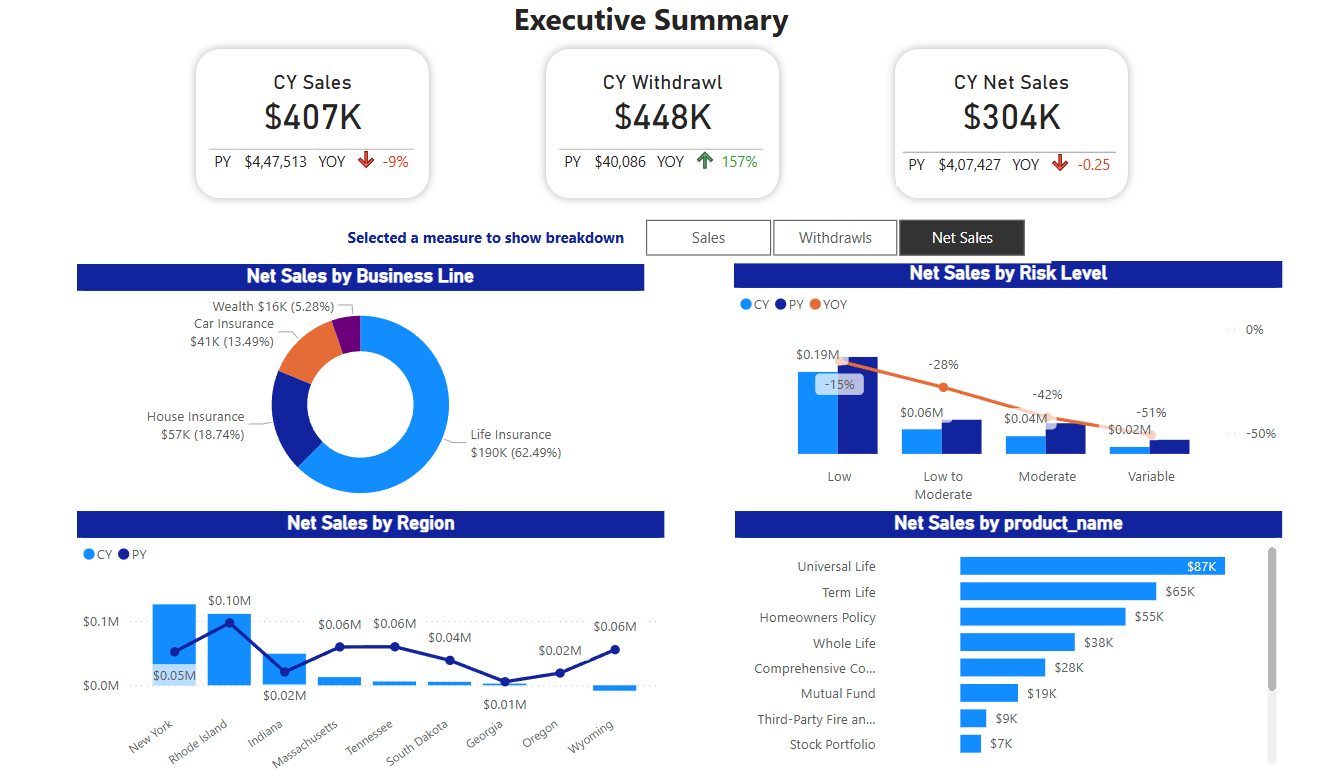

The dashboard page shown, as its layout file describes it:
{"tool":"powerbi","page":{"name":"Executive Summary","canvas":[1280,720],"ordinal":0},"visuals":[{"type":"textbox","box":[499.9,0,280.1,53.5],"z":0},{"type":"shape","box":[525.2,42.8,224.7,149.8],"z":0,"group":"g3"},{"type":"shape","box":[212,42.8,224.7,149.8],"z":500,"group":"g1"},{"type":"shape","box":[838.4,42.8,224.7,149.8],"z":500,"group":"g2"},{"type":"group","id":"g1","title":"Group 1","box":[212,42.8,224.7,149.8],"z":1000},{"type":"group","id":"g2","title":"Group 1","box":[838.4,42.8,224.7,149.8],"z":2000},{"type":"group","id":"g3","title":"Group 2","box":[525.2,42.8,224.7,149.8],"z":3000},{"type":"tableEx","fields":{"Values":["Sales.PY text","Sales.PY SALES","Sales.YOY text","Sales.YOY Sales"]},"box":[225.6,108,197.4,65.2],"z":3000,"group":"g1"},{"type":"tableEx","fields":{"Values":["Sales.PY text","Sales.PY WITHDRAWAL","Sales.YOY text","Sales.YOY WITHDRAWL"]},"box":[538.8,108,197.4,65.2],"z":3000,"group":"g3"},{"type":"tableEx","fields":{"Values":["Sales.PY text","Sales.PY NET SALES","Sales.YOY text","Sales.YOY NET Sales"]},"box":[847.4,110.5,204.3,63.2],"z":3000,"group":"g2"},{"type":"card","title":"CY Sales","fields":{"Values":["Sales.CY SALES"]},"box":[249.4,70,149.8,58.4],"z":4000,"group":"g1"},{"type":"card","title":"CY Withdrawl","fields":{"Values":["Sales.PY SALES"]},"box":[562.6,70,149.8,58.4],"z":4000,"group":"g3"},{"type":"card","title":"CY Net Sales","fields":{"Values":["Sales.CY NET SALES"]},"box":[875.8,70,149.8,58.4],"z":4000,"group":"g2"},{"type":"donutChart","fields":{"Category":["Product.business_line"],"Y":["Sales.CY"]},"box":[113.8,243.8,507.5,232.5],"z":4000},{"type":"lineClusteredColumnComboChart","fields":{"Category":["Product.product_risk_level"],"Y":["Sales.CY","Sales.PY"],"Y2":["Sales.YOY"]},"box":[702.5,241.2,491.2,223.8],"z":5000},{"type":"clusteredBarChart","fields":{"Category":["Product.product_name"],"Y":["Sales.CY"]},"box":[702.7,464.5,490,232.7],"z":7000},{"type":"slicer","fields":{"Values":["Table.Measure"]},"box":[597.2,197.4,389.1,45.7],"z":8000},{"type":"textbox","box":[351.1,206.2,269.4,35],"z":9000},{"type":"lineStackedColumnComboChart","fields":{"Y2":["Sales.PY"],"Category":["Advisor.advisor_region"],"Y":["Sales.CY"]},"box":[113.6,464.5,526.4,244.5],"z":9001}]}

Visuals, with their boxes on the page's 1280x720 design canvas (x1, y1, x2, y2). These are canvas units, not pixel positions in the 1323x782 screenshot, which may show the page scaled, cropped or inside an application window:
textbox: x1=500 y1=0 x2=780 y2=54
shape: x1=525 y1=43 x2=750 y2=193
shape: x1=212 y1=43 x2=437 y2=193
shape: x1=838 y1=43 x2=1063 y2=193
"Group 1" group: x1=212 y1=43 x2=437 y2=193
"Group 1" group: x1=838 y1=43 x2=1063 y2=193
"Group 2" group: x1=525 y1=43 x2=750 y2=193
tableEx - Sales.PY text x Sales.PY SALES: x1=226 y1=108 x2=423 y2=173
tableEx - Sales.PY text x Sales.PY WITHDRAWAL: x1=539 y1=108 x2=736 y2=173
tableEx - Sales.PY text x Sales.PY NET SALES: x1=847 y1=110 x2=1052 y2=174
"CY Sales" card: x1=249 y1=70 x2=399 y2=128
"CY Withdrawl" card: x1=563 y1=70 x2=712 y2=128
"CY Net Sales" card: x1=876 y1=70 x2=1026 y2=128
donutChart - Product.business_line x Sales.CY: x1=114 y1=244 x2=621 y2=476
lineClusteredColumnComboChart - Product.product_risk_level x Sales.CY: x1=702 y1=241 x2=1194 y2=465
clusteredBarChart - Product.product_name x Sales.CY: x1=703 y1=464 x2=1193 y2=697
slicer - Table.Measure: x1=597 y1=197 x2=986 y2=243
textbox: x1=351 y1=206 x2=620 y2=241
lineStackedColumnComboChart - Sales.PY x Advisor.advisor_region: x1=114 y1=464 x2=640 y2=709
